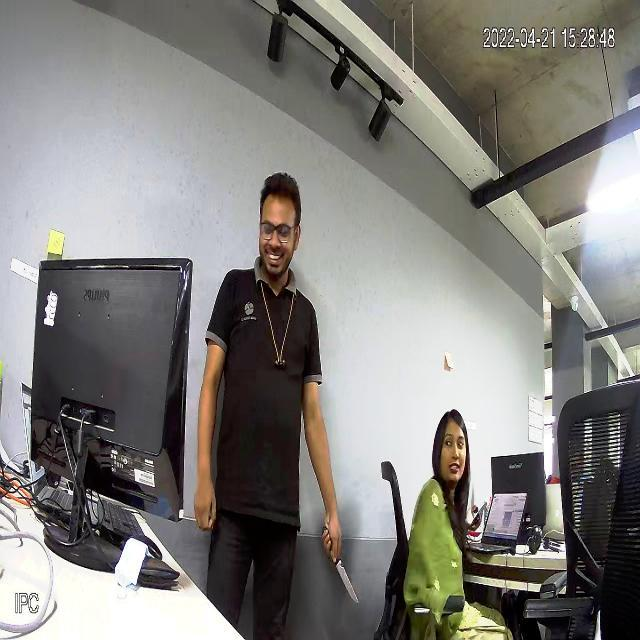Knife: (315, 522, 366, 609)
